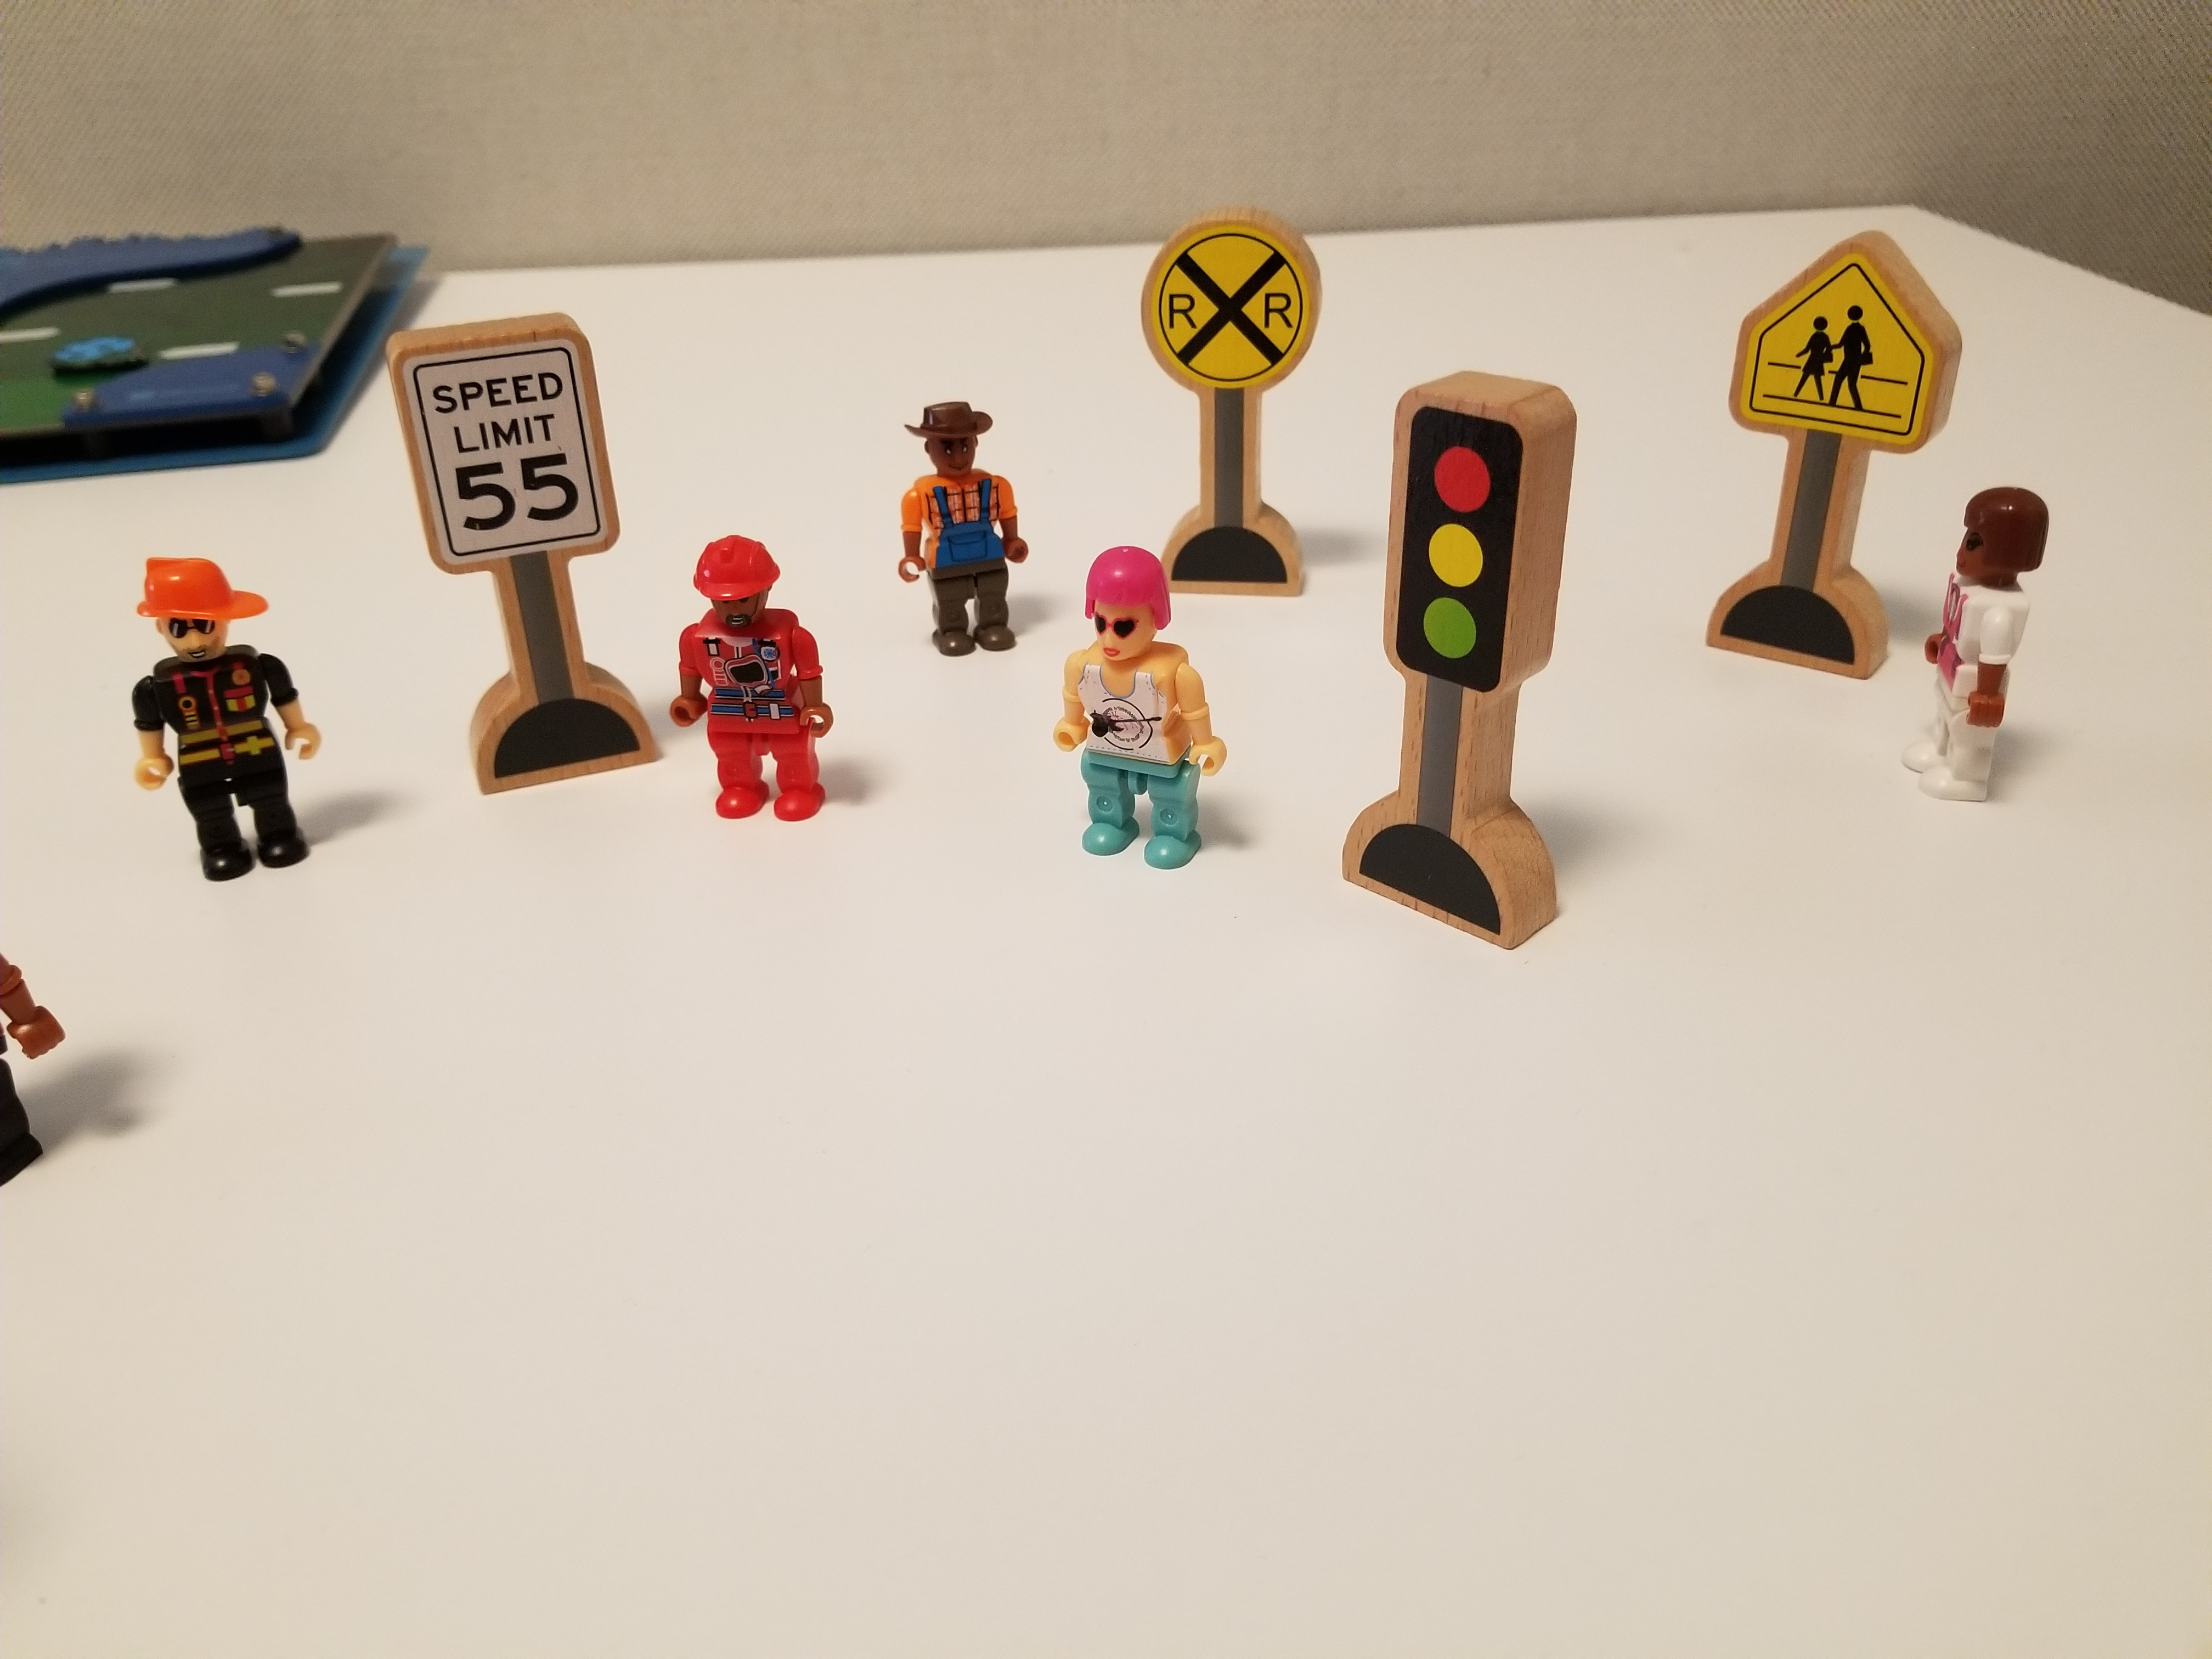Pedestrian crossing: (1722, 179, 1965, 659)
Railroad Crossing: (1120, 199, 1329, 552)
Speed limit 55: (374, 297, 655, 789)
Traffic Light: (1359, 370, 1636, 997)
person: (95, 537, 368, 894), (655, 534, 870, 837), (1061, 543, 1228, 870), (1941, 453, 2062, 890), (855, 392, 1048, 659)
